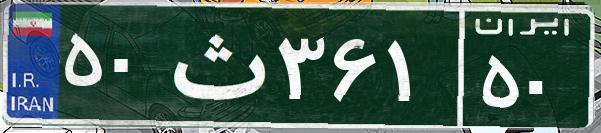0: (110, 28, 158, 105), (525, 38, 570, 115)
1: (385, 28, 445, 110)
3: (273, 28, 330, 110)
5: (57, 26, 110, 107), (475, 38, 525, 113)
6: (330, 28, 385, 110)
ث: (158, 15, 273, 115)
